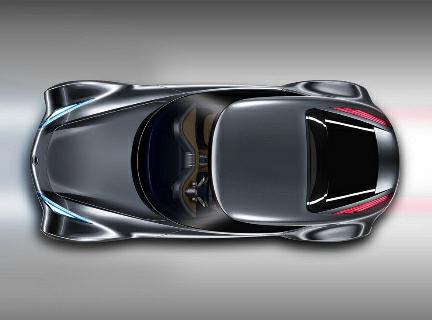日产-Esflow: (25, 76, 404, 252)
